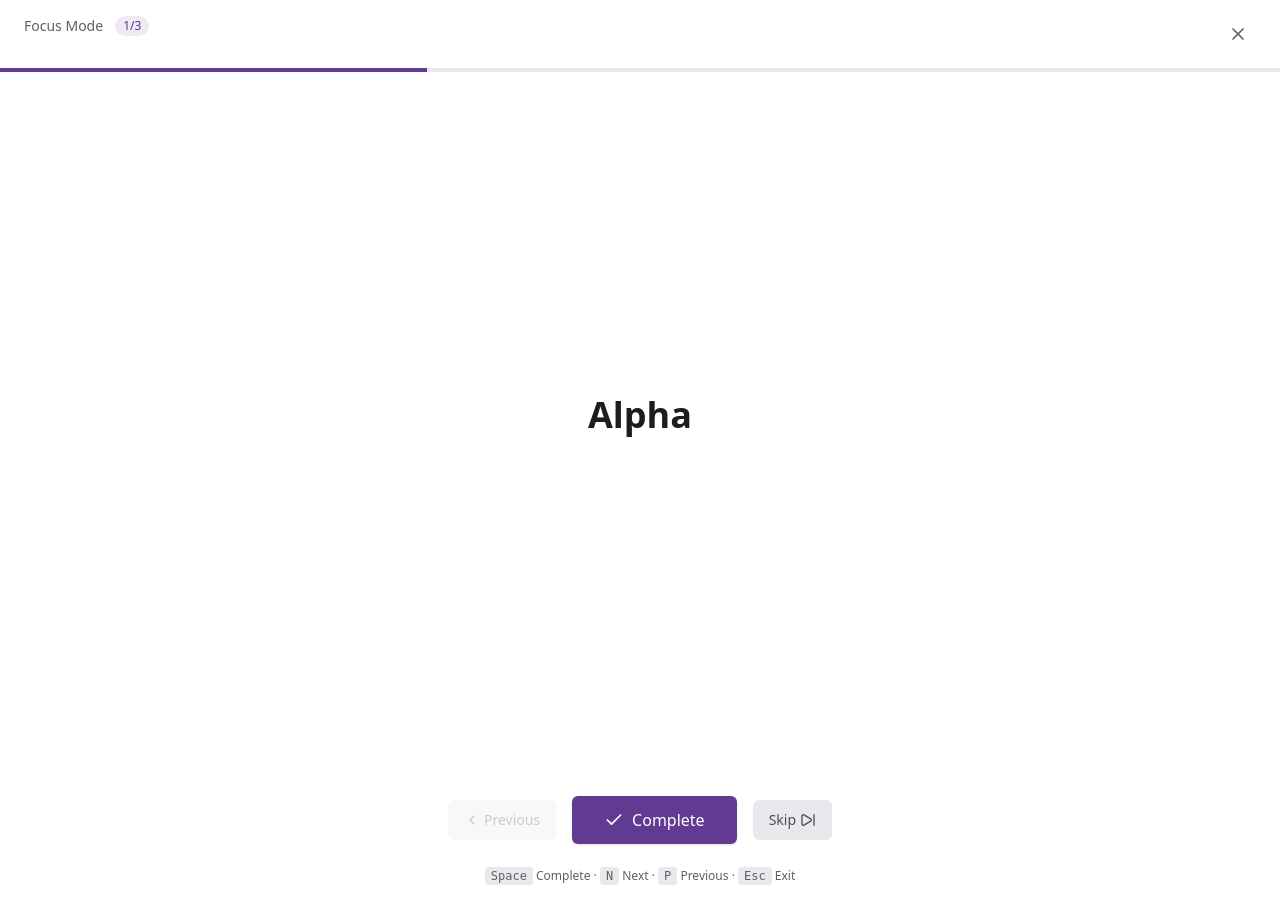
Test: FocusMode › navigates previous/next across the full pending list
The width and height of the screenshot is (1280, 900).
Click the button "Skip" at (792, 820), box top-left (753, 800), bottom-right (832, 840)
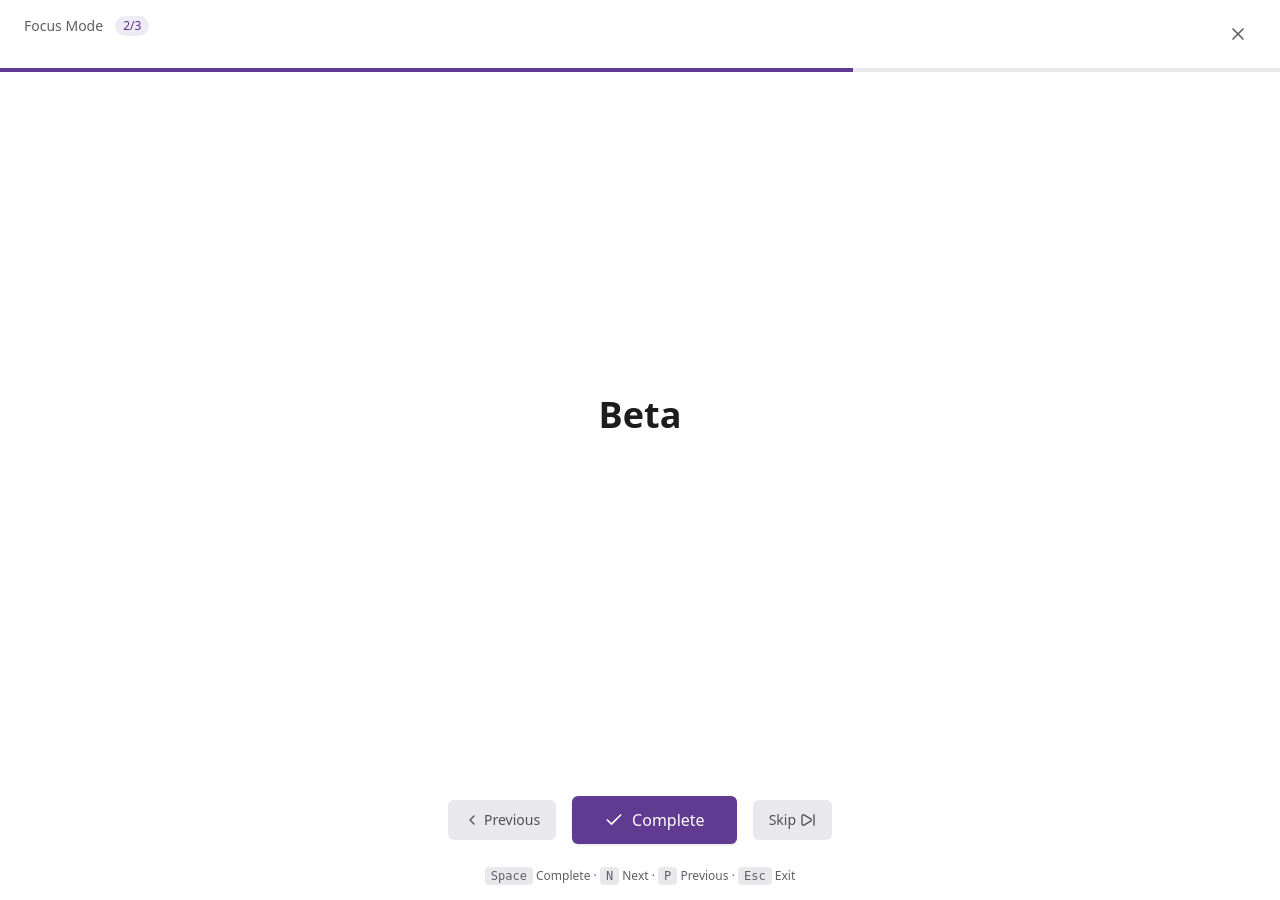
Now the text "Beta" is shown, box top-left (599, 390), bottom-right (681, 438)
Click the button "Previous" at (502, 820), box top-left (448, 800), bottom-right (556, 840)
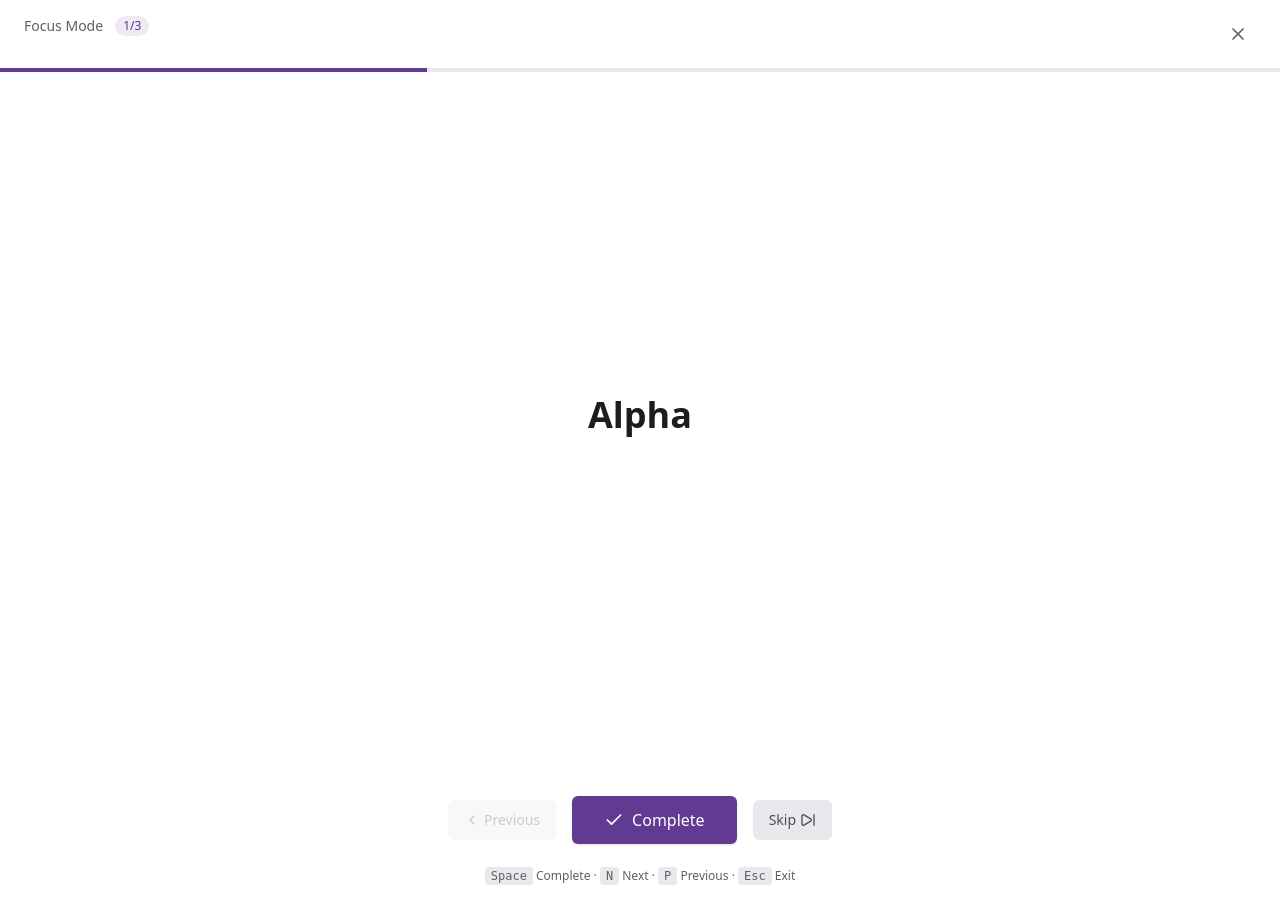
Now the text "Alpha" is shown, box top-left (588, 390), bottom-right (692, 438)
